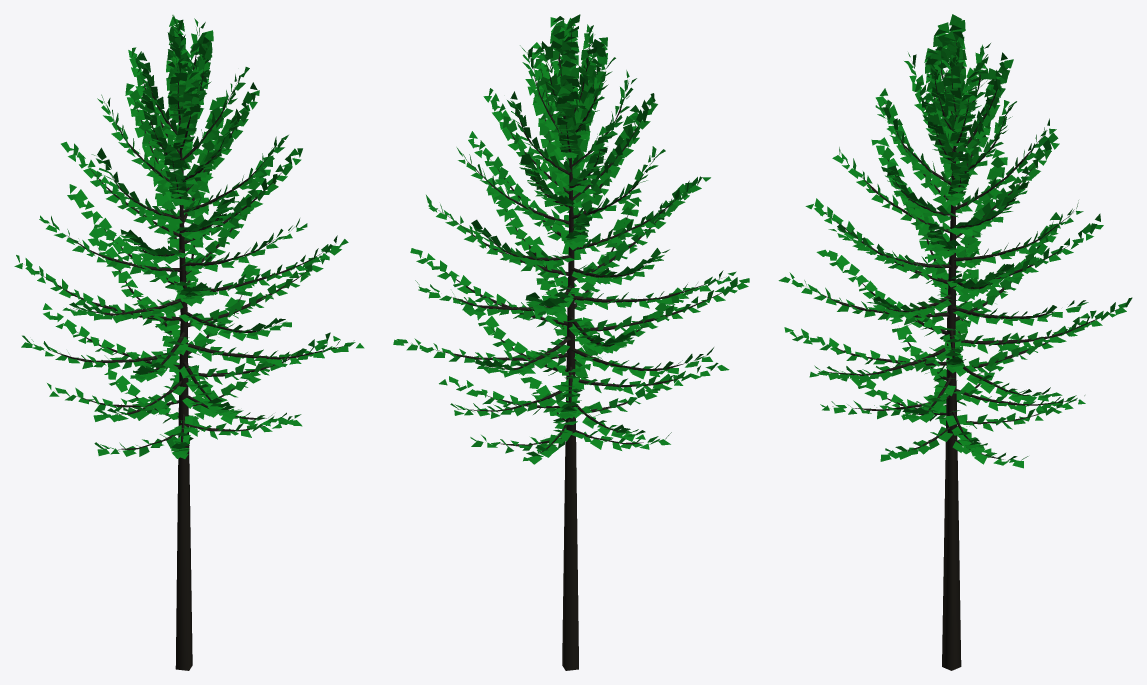
Rendered from tree-v3-min.glb.
The picture shows the model from 3 angles, left to right: view 1: azimuth 30°, elevation 25°; view 2: azimuth 150°, elevation 25°; view 3: azimuth 270°, elevation 25°; orthographic projection.
Bounding box in the file's own units: 8.75 × 17.57 × 8.71.
2 materials, 2 textured.
